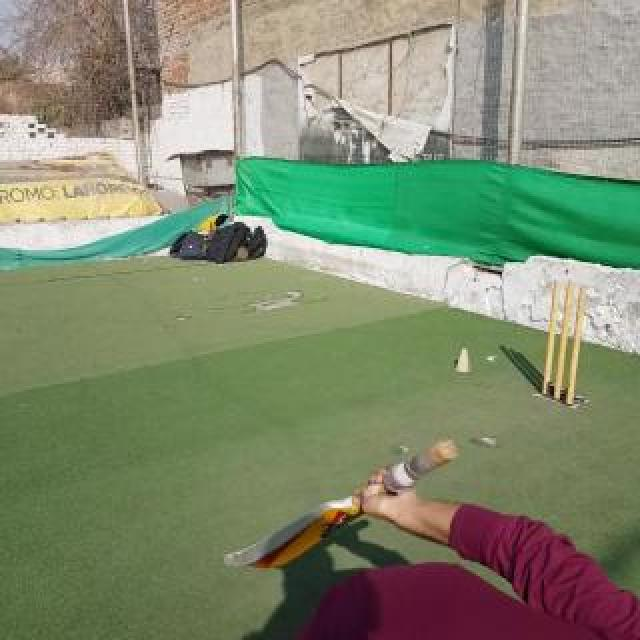bat: (224, 438, 462, 570)
